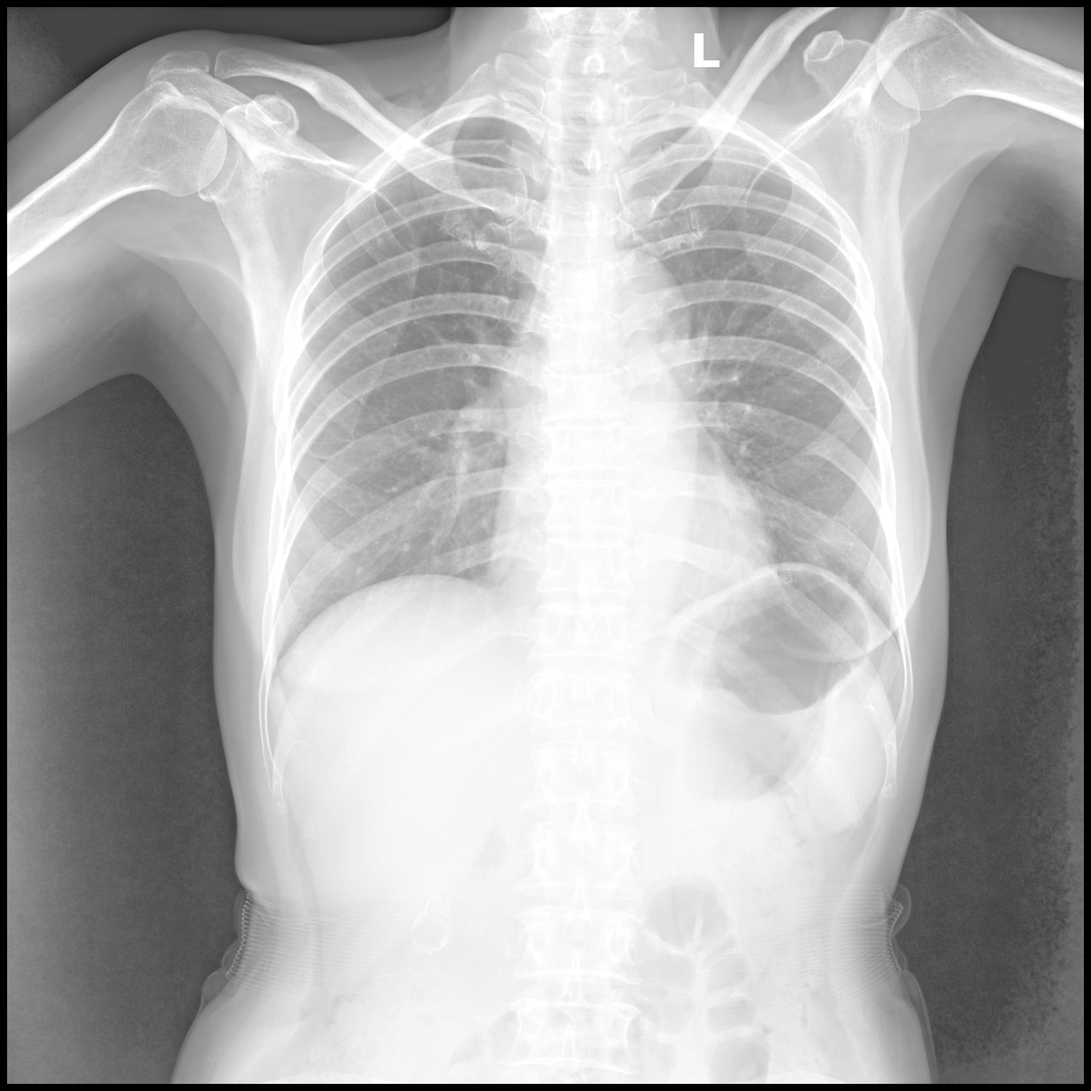Aortic enlargement: (589, 246, 689, 370)
